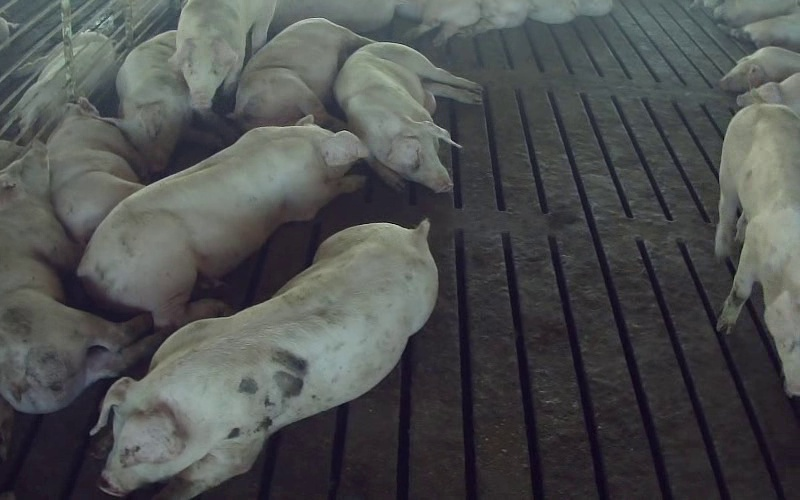pig: (93, 220, 437, 499), (78, 117, 367, 328), (0, 142, 161, 413), (715, 104, 799, 395), (334, 42, 481, 192), (235, 18, 371, 129), (47, 99, 145, 244), (116, 30, 190, 172)
